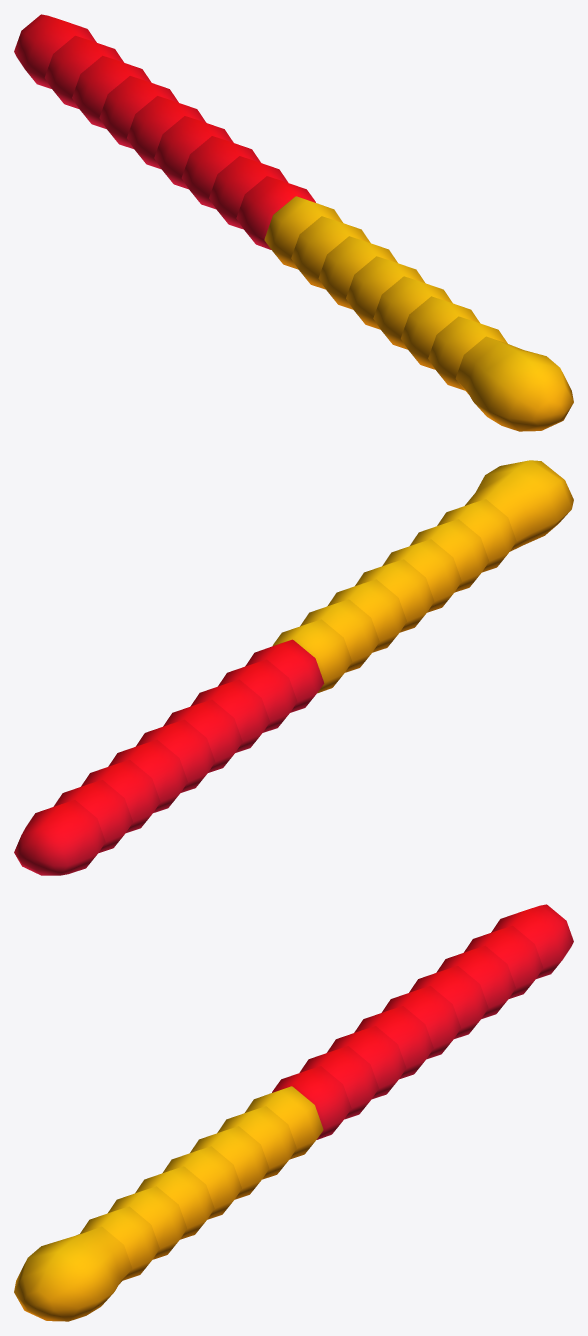
Rendered from marmalade_snake_002.glb.
3 views of the same model, one above another, from view 1: azimuth 30°, elevation 25°; view 2: azimuth 150°, elevation 25°; view 3: azimuth 330°, elevation 25° (orthographic).
Parts seen in each view (by area): view 1: marmalade_snake_002; view 2: marmalade_snake_002; view 3: marmalade_snake_002.
Boxes of the visible parts, bbox=[...] form: marmalade_snake_002: bbox=[14, 14, 573, 431]; marmalade_snake_002: bbox=[14, 460, 573, 875]; marmalade_snake_002: bbox=[14, 904, 573, 1321].
Bounding box in the file's own units: 0.8882 × 0.6578 × 9.35.
Materials: 1 (1 with a texture image).
